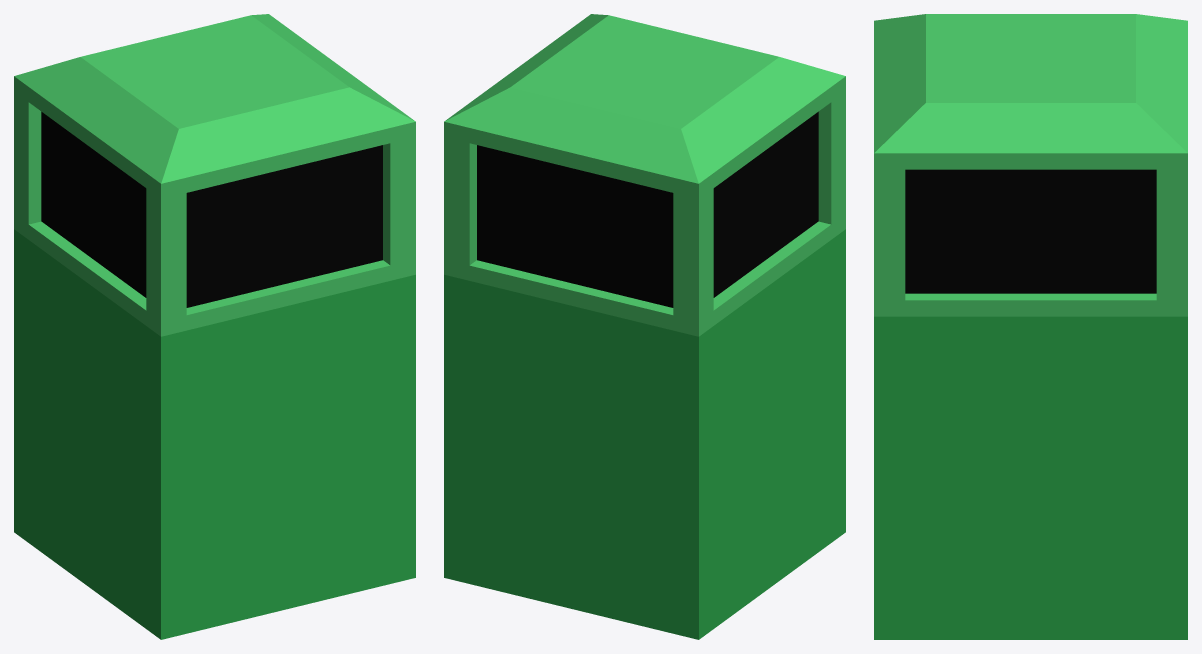
The model's file is TrashBin.fbx.
3 views of the same model, side by side, from view 1: azimuth 30°, elevation 25°; view 2: azimuth 150°, elevation 25°; view 3: azimuth 270°, elevation 25° (orthographic). The views are drawn at different scales.
Visible parts, largest first — view 1: Cube; view 2: Cube; view 3: Cube.
Part boxes in pixels (x1,y1,x2,y2): Cube: [14, 14, 415, 639]; Cube: [444, 14, 845, 639]; Cube: [874, 14, 1187, 639].
Size of the model in its own units: 200 by 362 by 200.
